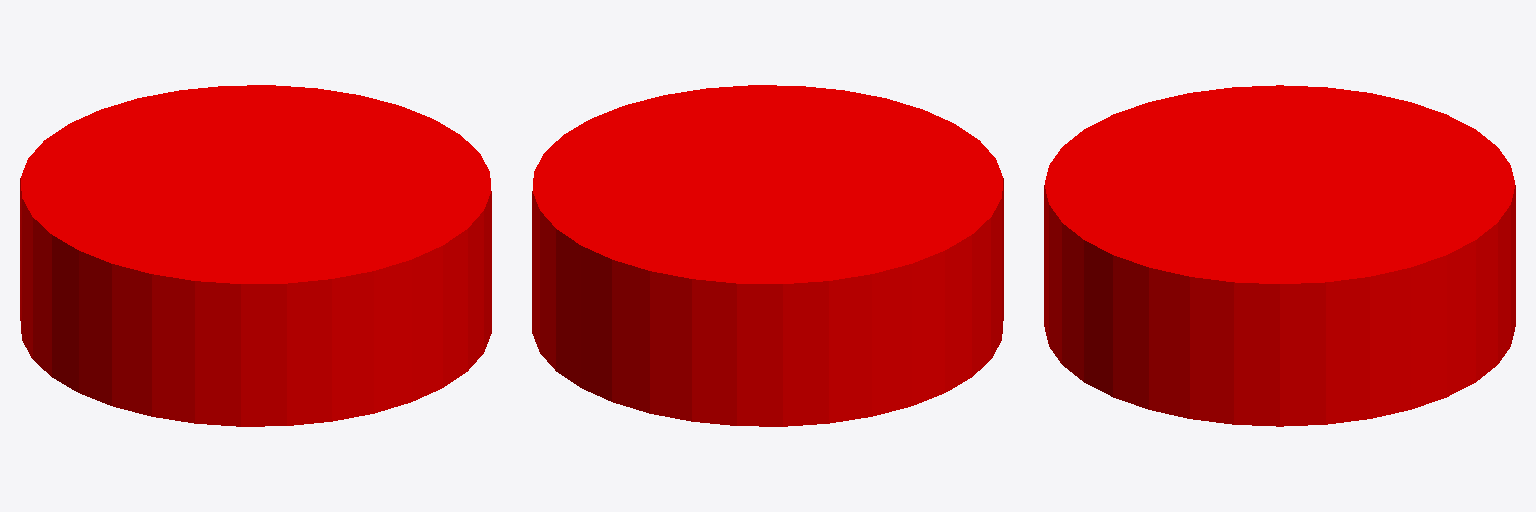
The robot description file, URDF, robot "mea":
<?xml version="1.0" ?>
<!-- =================================================================================== -->
<!-- |    This document was autogenerated by xacro from description/mea.urdf.xacro     | -->
<!-- |    EDITING THIS FILE BY HAND IS NOT RECOMMENDED                                 | -->
<!-- =================================================================================== -->
<robot name="mea">
  <!-- Empty link to referr everything to -->
  <link name="world"/>
  <!-- Height of the cylinder -->
  <link name="cylinder_link">
    <visual>
      <geometry>
        <cylinder length="2" radius="3"/>
      </geometry>
      <material name="red">
        <color rgba="1 0 0 1"/>
      </material>
    </visual>
    <collision>
      <geometry>
        <cylinder length="2" radius="3"/>
      </geometry>
    </collision>
  </link>
  <!-- Define the joint to connect this object to its parent -->
  <joint name="base_joint" type="fixed">
    <origin rpy="0 0 0" xyz="0 0 1.0"/>
    <parent link="world"/>
    <child link="cylinder_link"/>
  </joint>
  <!-- publishing the joint states to the /JointState topic-->
  <gazebo>
    <plugin filename="libgazebo_ros_joint_state_publisher.so" name="gazebo_ros_joint_state_publisher">
      <update_rate>100</update_rate>
      <joint_name>base_joint</joint_name>
    </plugin>
  </gazebo>
  <gazebo reference="cylinder_link">
    <material>Gazebo/Red</material>
  </gazebo>
  <!-- <gazebo>
    <plugin filename="libgazebo_ros2_control.so" name="gazebo_ros2_control">
        <robot_param>robot_description</robot_param>
        <robot_namespace>gantry</robot_namespace>
        <robot_param_node>robot_state_publisher</robot_param_node>
        <parameters>$(find gantry_description)/config/controller.yaml</parameters>
    </plugin>
  </gazebo> -->
</robot>

--- Facts derived from the render (not from the file) ---
3 views of the same robot in one strip: view 1: azimuth 30°, elevation 25°; view 2: azimuth 150°, elevation 25°; view 3: azimuth 270°, elevation 25° (orthographic).
Robot: mea — 2 links, 1 joints (1 fixed); root link world; default pose: every joint at zero.
Visible links, largest first — view 1: cylinder_link; view 2: cylinder_link; view 3: cylinder_link.
Boxes of the visible links, x1,y1,x2,y2 form: cylinder_link: [20, 85, 491, 426]; cylinder_link: [532, 85, 1003, 426]; cylinder_link: [1044, 85, 1515, 426].
Size in the robot's own frame: 6 by 6 by 2 metres.
Geometry: primitives only (box / cylinder / sphere), no mesh files.
